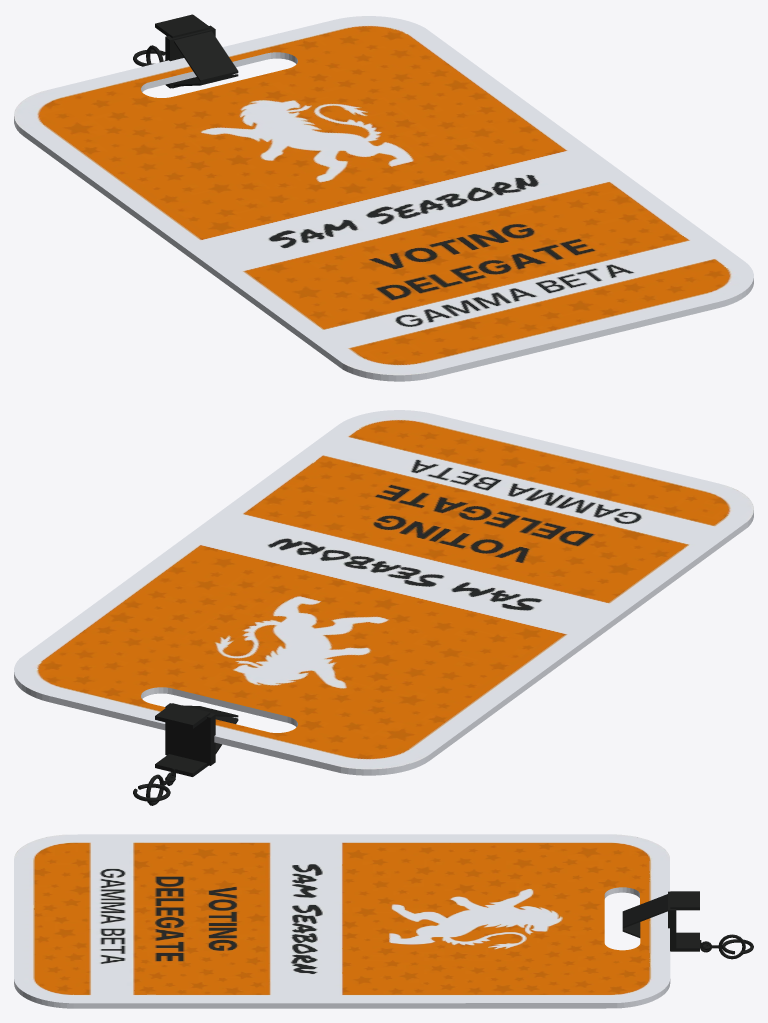
The model's file is card2.glb.
3 renders of one model, top to bottom at view 1: azimuth 30°, elevation 25°; view 2: azimuth 150°, elevation 25°; view 3: azimuth 270°, elevation 25°, orthographic. The views are drawn at different scales.
Visible parts, largest first — view 1: card, clip; view 2: card, clip; view 3: card, clip.
Part boxes in pixels (bbox=[...]): card: bbox=[14, 16, 753, 381]; clip: bbox=[133, 14, 238, 88]; card: bbox=[14, 410, 753, 775]; clip: bbox=[133, 703, 238, 805]; card: bbox=[14, 834, 670, 1008]; clip: bbox=[622, 891, 753, 959].
Size of the model in its own units: 3.35 by 0.5549 by 6.2.
4 materials, 2 textured.
